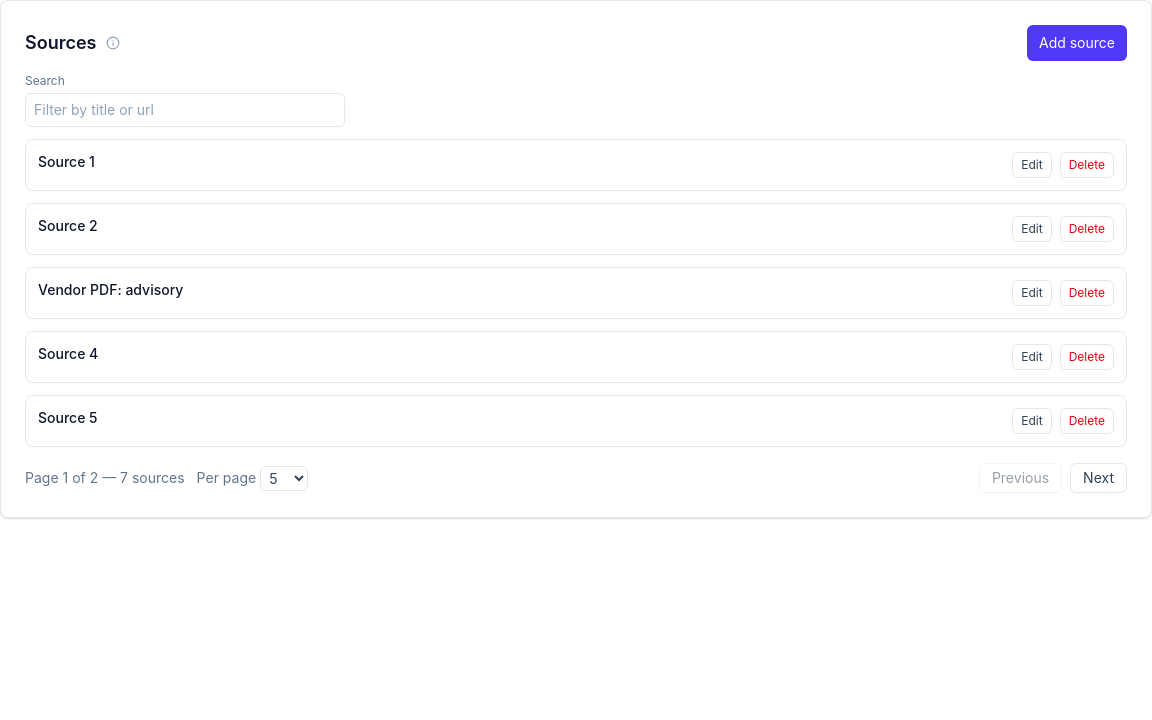
Test: TASK-UXT: sources pagination and search › filters sources by title case-insensitively after a 300ms debounce
Note: a title fragment is typed into the search box
Type "vendor pdf" into the search field named "Search sources" at (185, 110), box 25,93 -> 345,127
Wait 300 ms
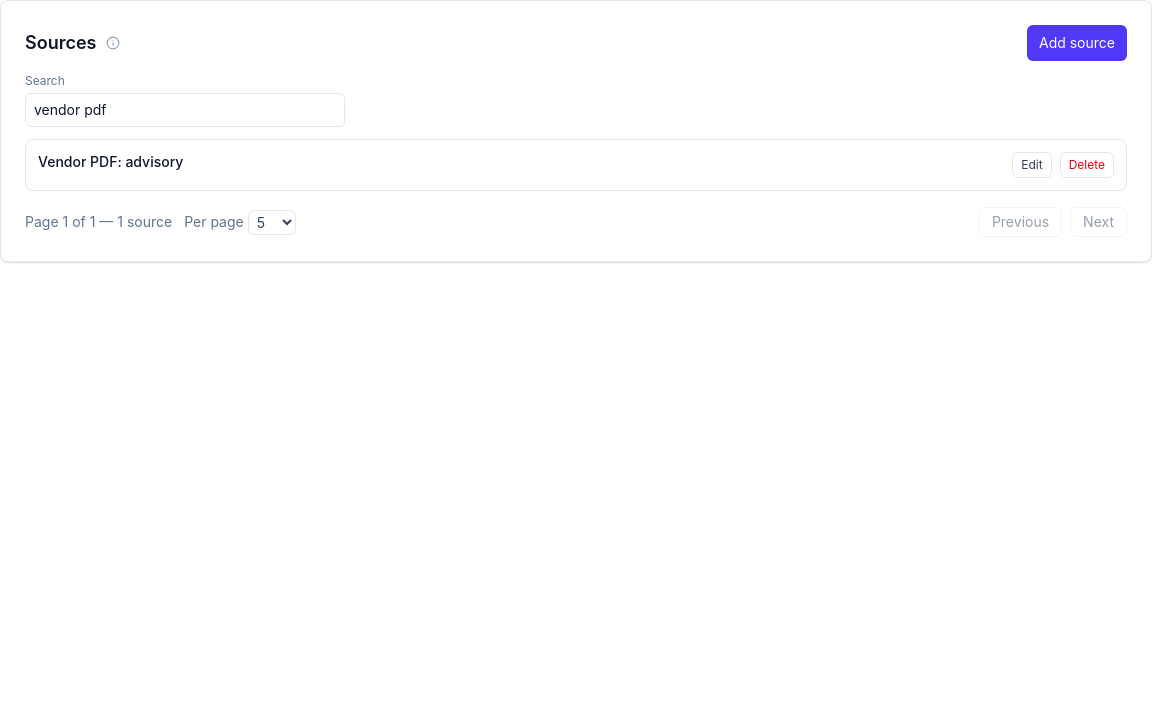
Expected: the text "Vendor PDF: advisory" is shown, 38,152 -> 183,172
Now the text "Source 1" is gone
